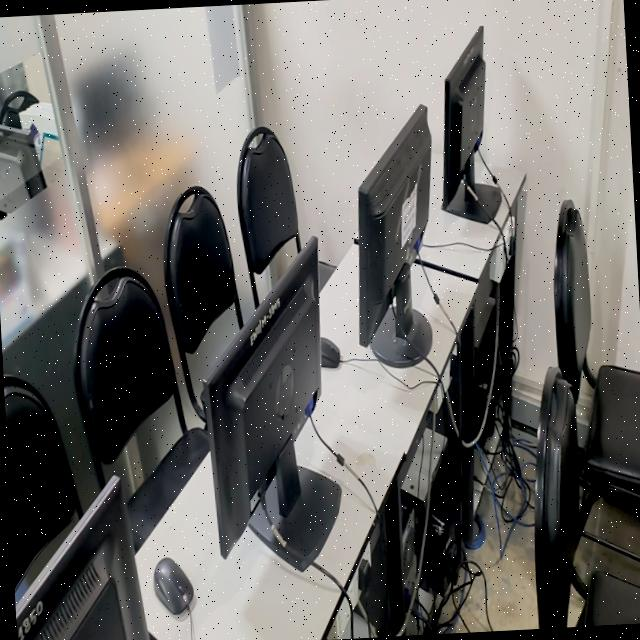Chair: (555, 216, 640, 513), (76, 271, 176, 465), (3, 380, 79, 593), (168, 187, 242, 352), (533, 367, 579, 629), (236, 126, 300, 306)
Cpu: (396, 505, 424, 636)
Monitor: (201, 237, 320, 558), (15, 476, 148, 640), (355, 104, 430, 357), (441, 26, 492, 221), (0, 125, 44, 211)
Mouse: (152, 556, 195, 619), (319, 337, 340, 367)
